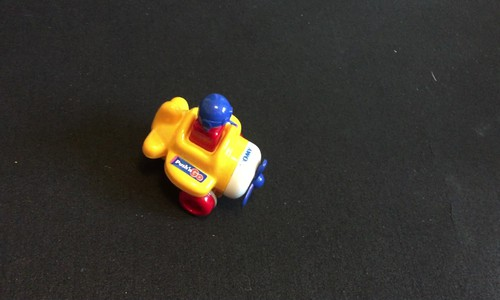toy: (137, 88, 271, 221)
